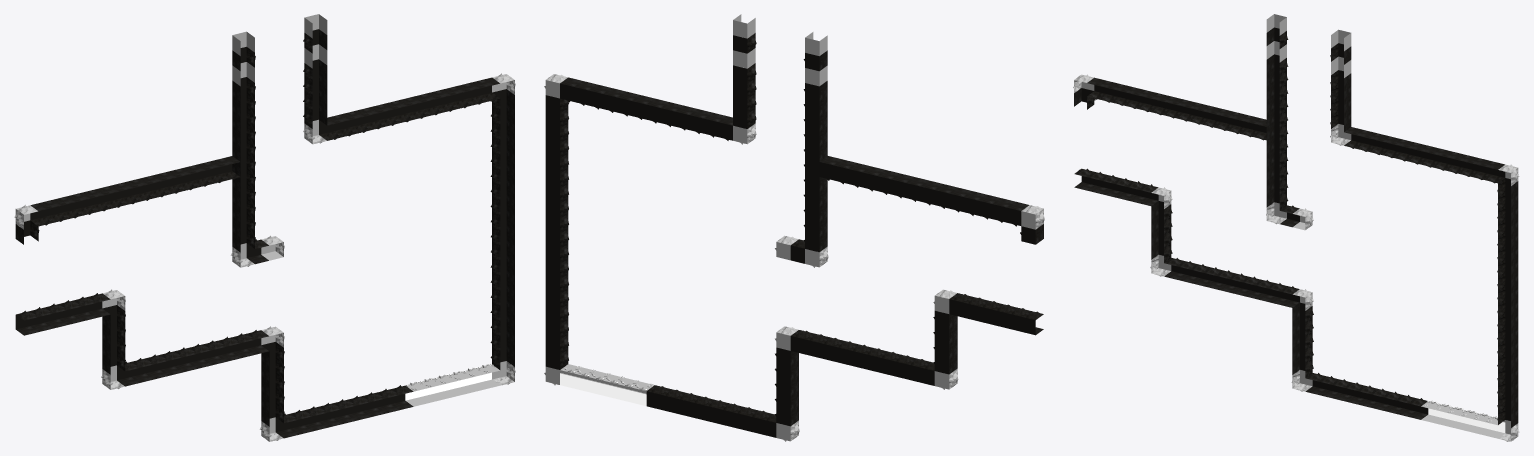
File: Cubi_Room6.fbx
3 views of the same model, side by side, from view 1: azimuth 30°, elevation 25°; view 2: azimuth 150°, elevation 25°; view 3: azimuth 330°, elevation 25° (orthographic). The views are drawn at different scales.
Parts seen in each view (by area): view 1: Cubes_Room6; view 2: Cubes_Room6; view 3: Cubes_Room6.
Part boxes in pixels (x1=…): Cubes_Room6: x1=14, y1=14, x2=515, y2=441; Cubes_Room6: x1=544, y1=14, x2=1044, y2=441; Cubes_Room6: x1=1073, y1=14, x2=1519, y2=441.
Size of the model in its own units: 3445 by 2722 by 100.
